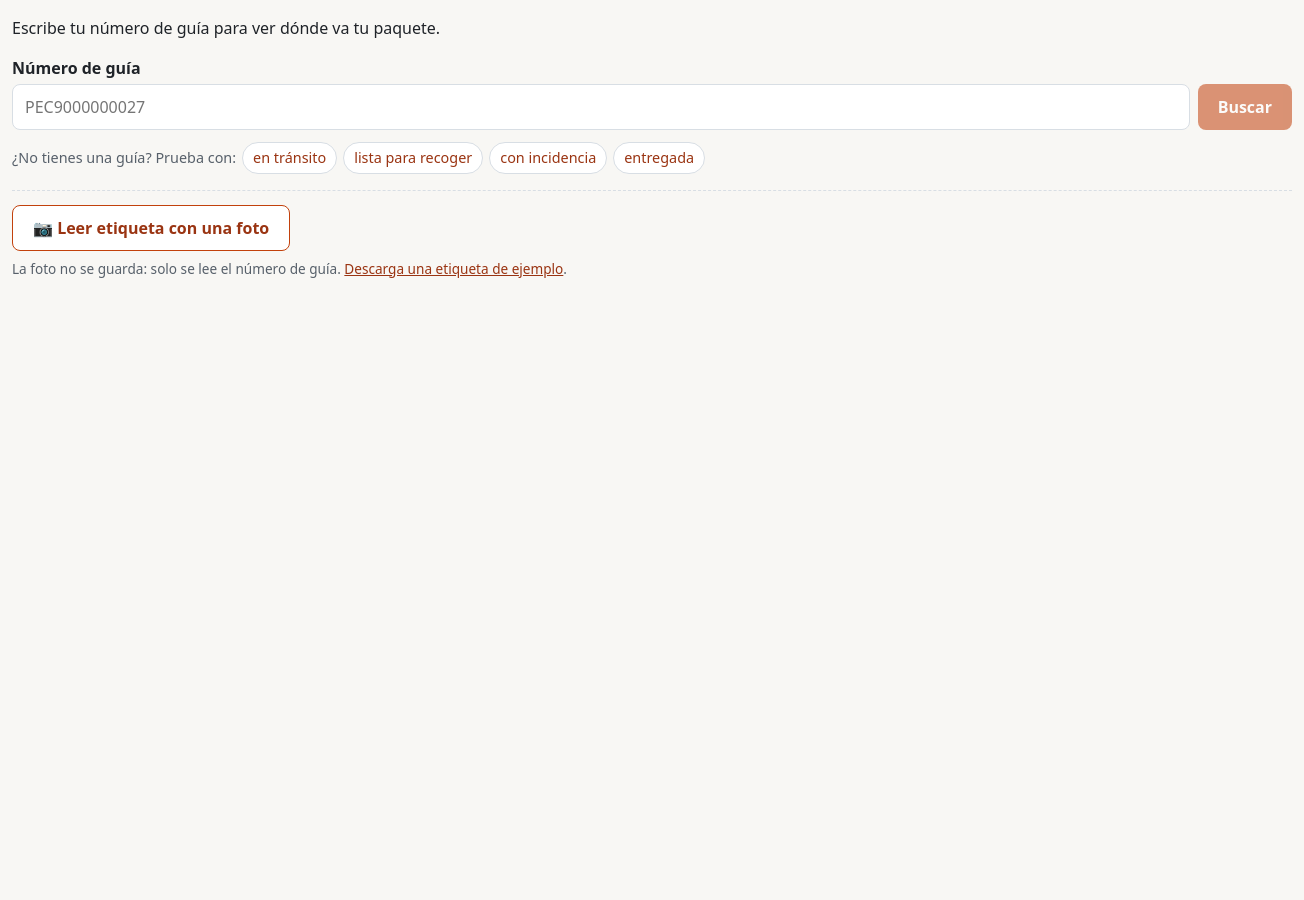
Scenario: Rastreo › muestra el estado actual, la ruta y el historial con lo más reciente primero
This screenshot has width=1304, height=900.
In the field labelled "Número de guía": (601, 107) [12,84,1190,130], type " pec2610190049 "
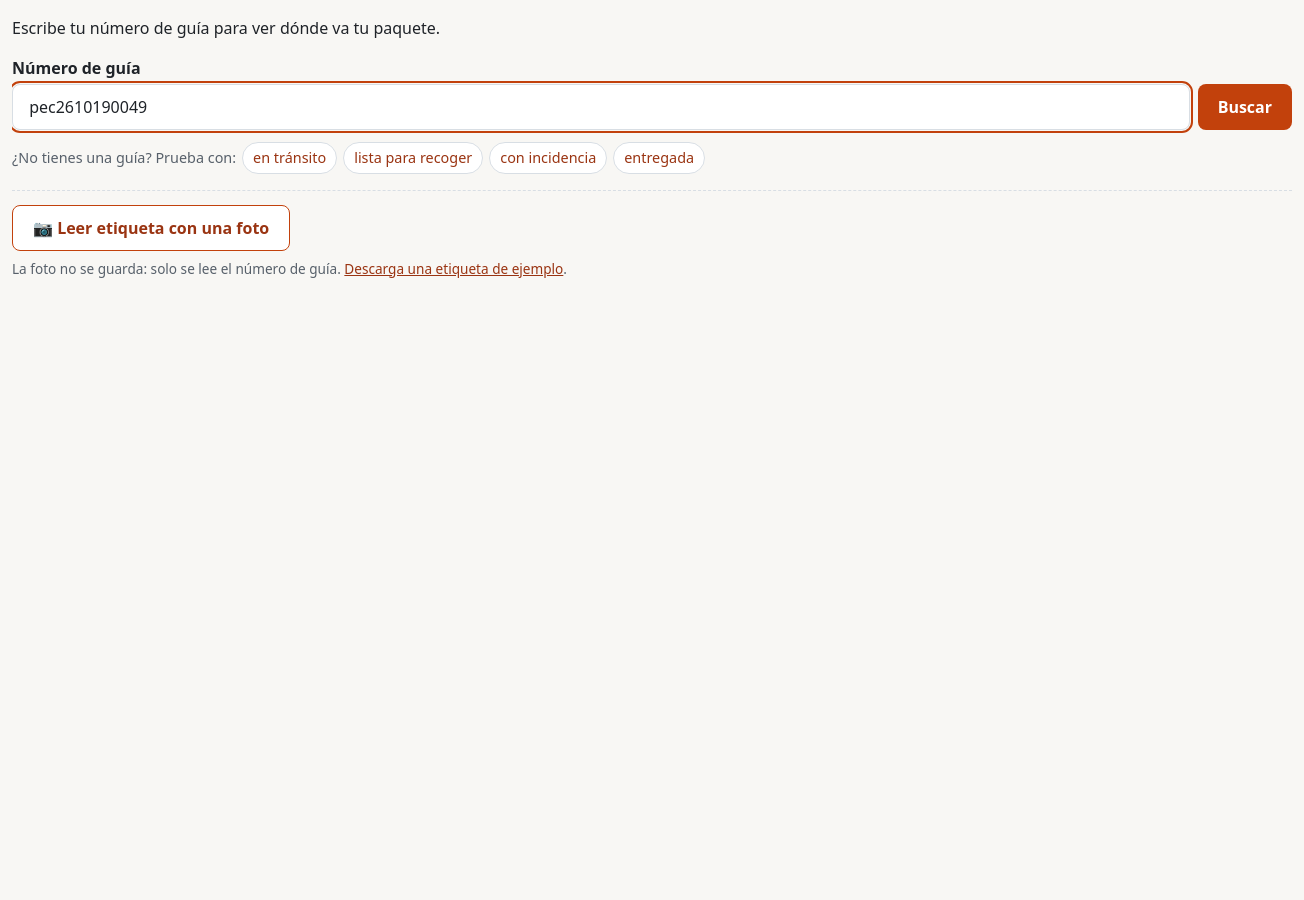
Click the button "Buscar": (1245, 107) [1198,84,1292,130]
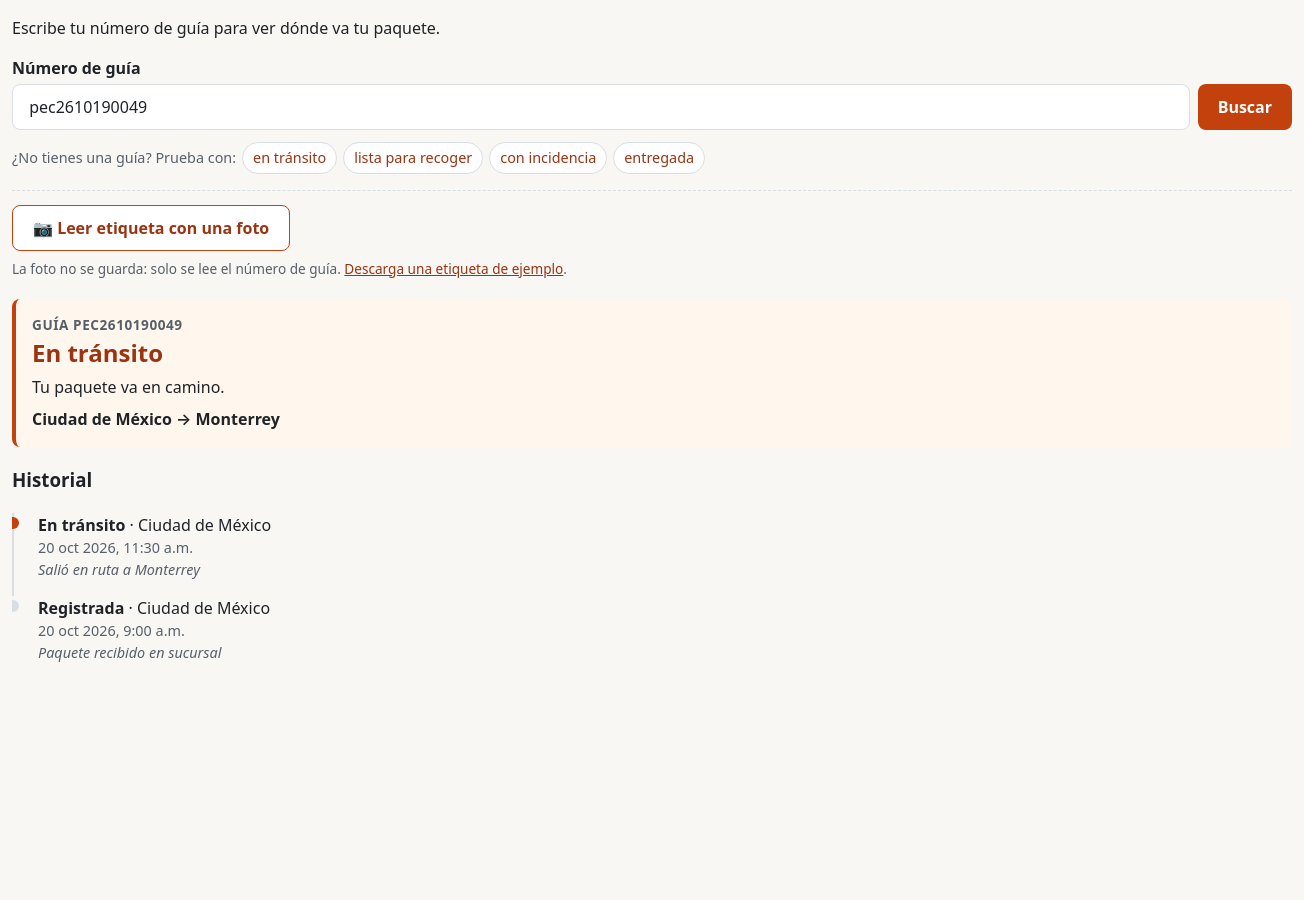
Check: the heading "En tránsito" is shown, box [32,336,163,369]
Check: the text "Tu paquete va en camino." is shown, box [32,376,225,398]
Check: the text "Ciudad de México → Monterrey" is shown, box [32,408,280,430]
